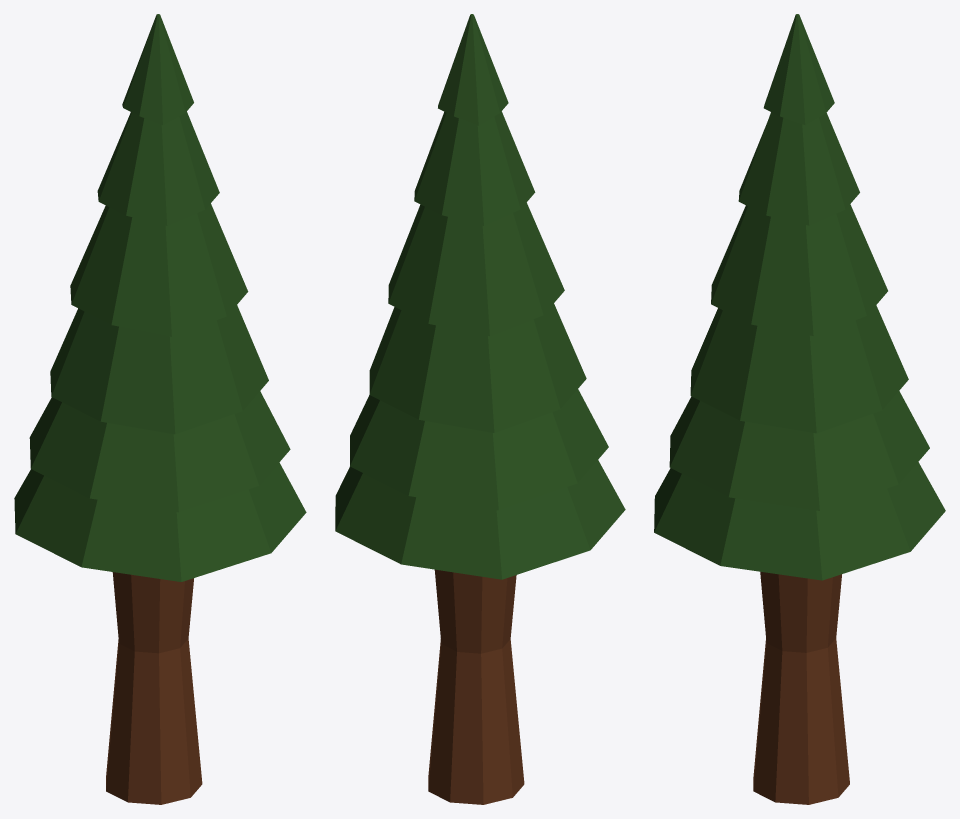
File: lowpolytree.fbx
3 renders of one model, left to right at view 1: azimuth 30°, elevation 25°; view 2: azimuth 150°, elevation 25°; view 3: azimuth 270°, elevation 25°, orthographic.
Visible parts, largest first — view 1: polySurface1, polySurface2; view 2: polySurface1, polySurface2; view 3: polySurface1, polySurface2.
Boxes of the visible parts, bbox=[...] form: polySurface1: bbox=[14, 14, 306, 581]; polySurface2: bbox=[106, 572, 202, 804]; polySurface1: bbox=[335, 14, 625, 579]; polySurface2: bbox=[428, 569, 524, 804]; polySurface1: bbox=[654, 14, 945, 580]; polySurface2: bbox=[753, 571, 849, 804].
Bounding box in the file's own units: 2.31 × 6.64 × 2.28.
